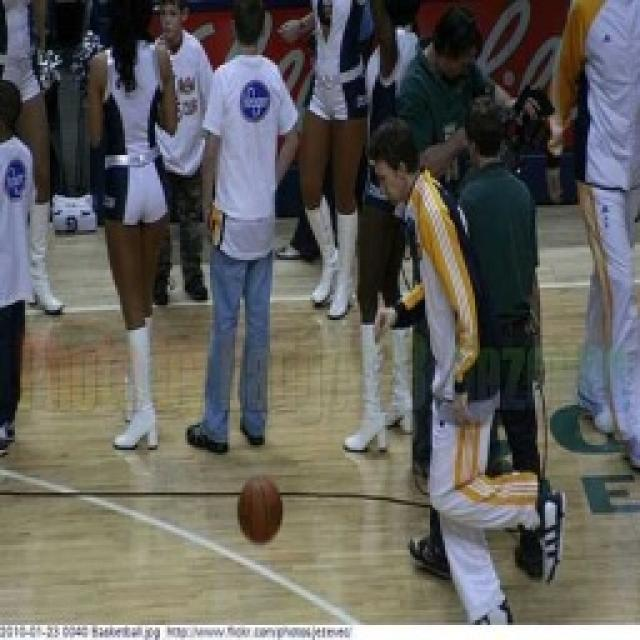basketball: (233, 469, 288, 549)
